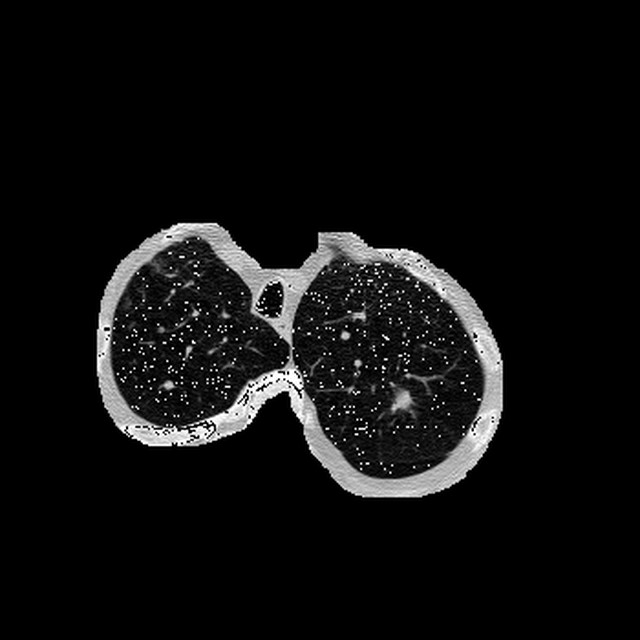PN: (165, 380, 176, 391)
